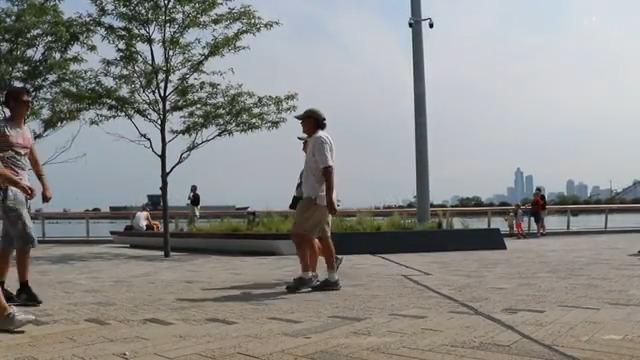no-helmet: (294, 108, 326, 135), (5, 86, 32, 117)
